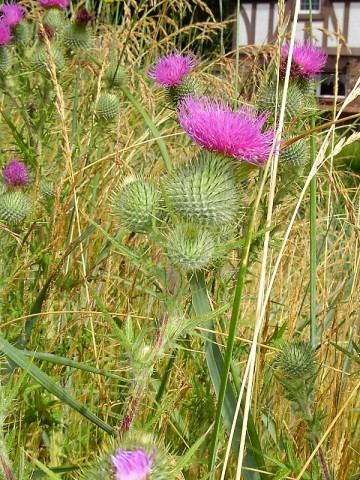thistle: (172, 96, 274, 227), (91, 433, 176, 480), (271, 45, 332, 101), (150, 55, 196, 102), (2, 163, 36, 222), (2, 5, 33, 44)
